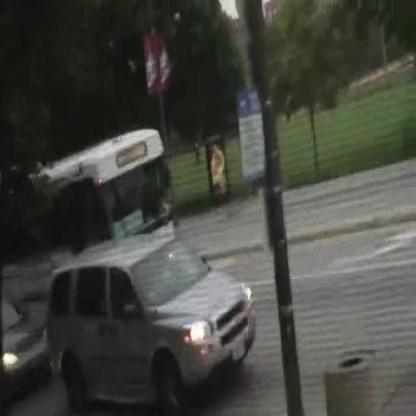other: (174, 309, 211, 353), (227, 267, 259, 316), (2, 345, 23, 372)
